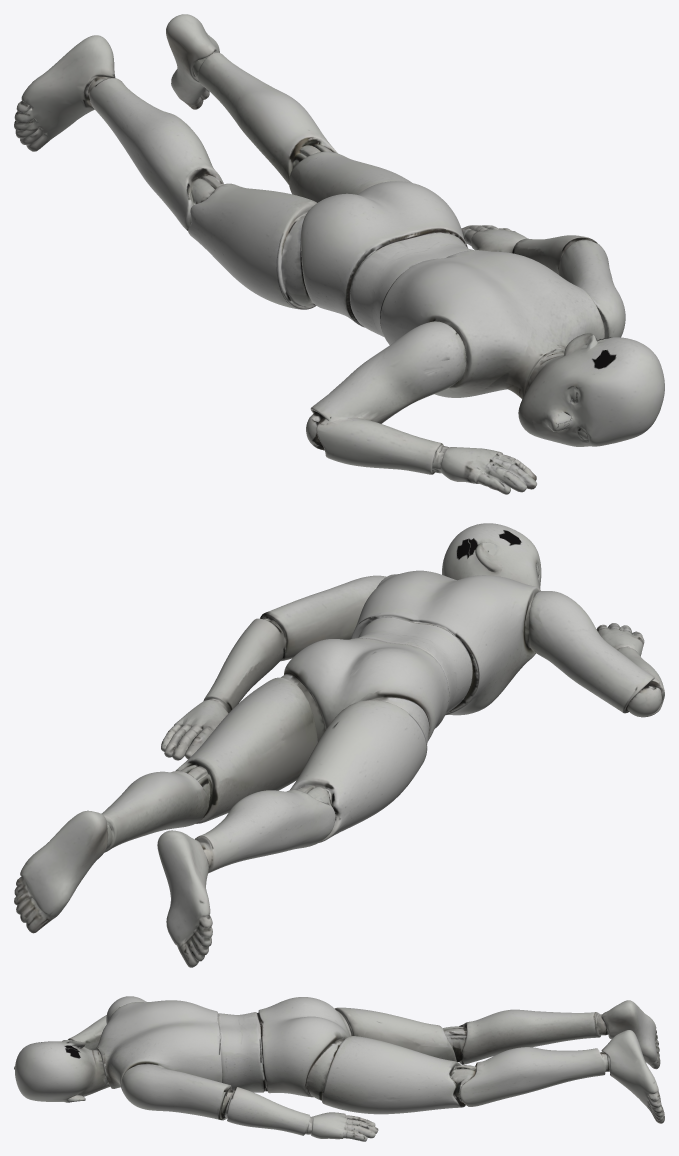
3 views of the same model, one above another, from view 1: azimuth 30°, elevation 25°; view 2: azimuth 150°, elevation 25°; view 3: azimuth 270°, elevation 25° (orthographic). The views are drawn at different scales.
Parts seen in each view (by area): view 1: node_0; view 2: node_0; view 3: node_0.
Part boxes in pixels (x1,y1,x2,y2): node_0: [14, 14, 664, 494]; node_0: [14, 523, 664, 967]; node_0: [14, 996, 664, 1141].
Bounding box in the file's own units: 0.5082 × 0.1804 × 1.16.
1 material, 1 textured.
